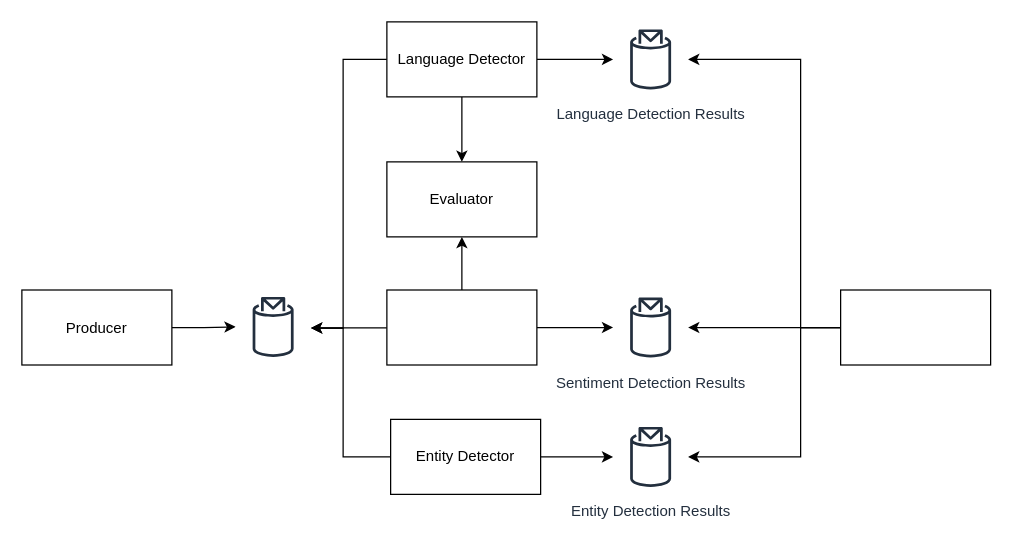
This 1013x543 diagram has some shape labels left out. Here are the shapes that lost their labels. From the top down, the box of each, then its label:
(234, 288, 311, 364): Tweets
(386, 289, 537, 365): Sentiment Detector
(839, 289, 991, 365): Statistic Builder
